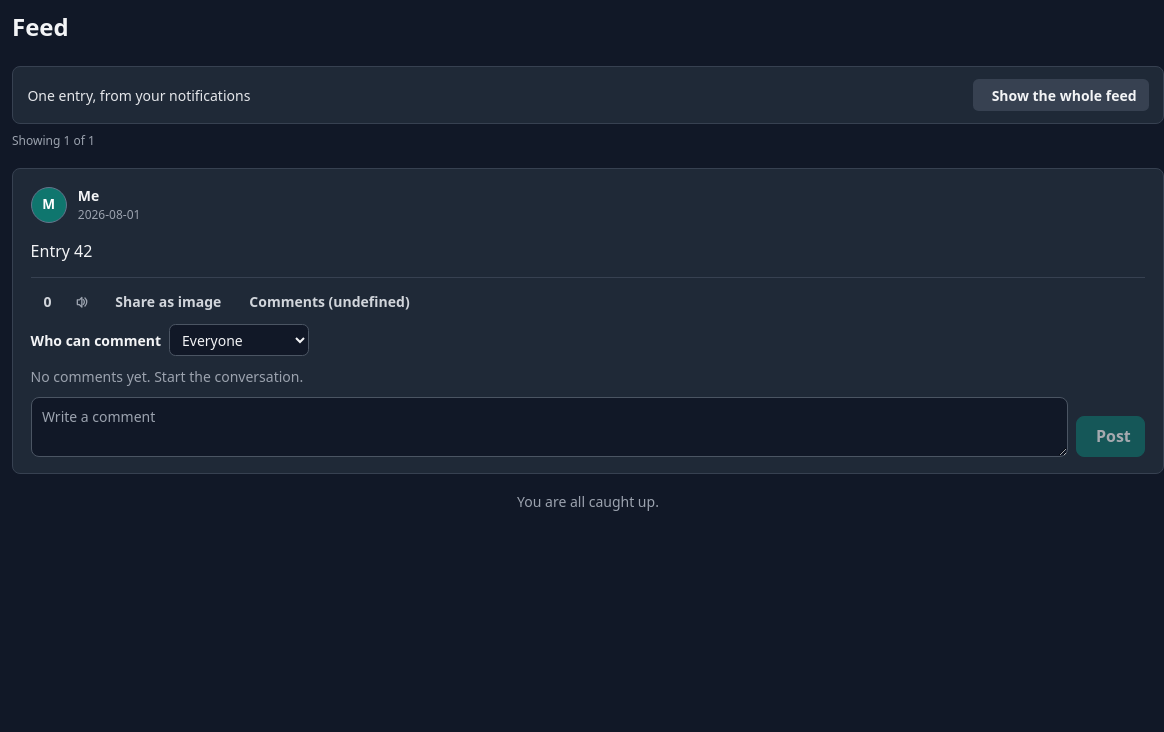
FeedPage topics and search › shows the one entry a notification leads to, its comments open, with a way to the whole feed
expect the text "Entry 42" is shown: met, box x1=31 y1=240 x2=92 y2=262
expect the element "One entry, from your notifications" is shown: met, box x1=12 y1=66 x2=1163 y2=124
Click the button "Show the whole feed" at [1061, 95], box x1=973 y1=79 x2=1149 y2=111
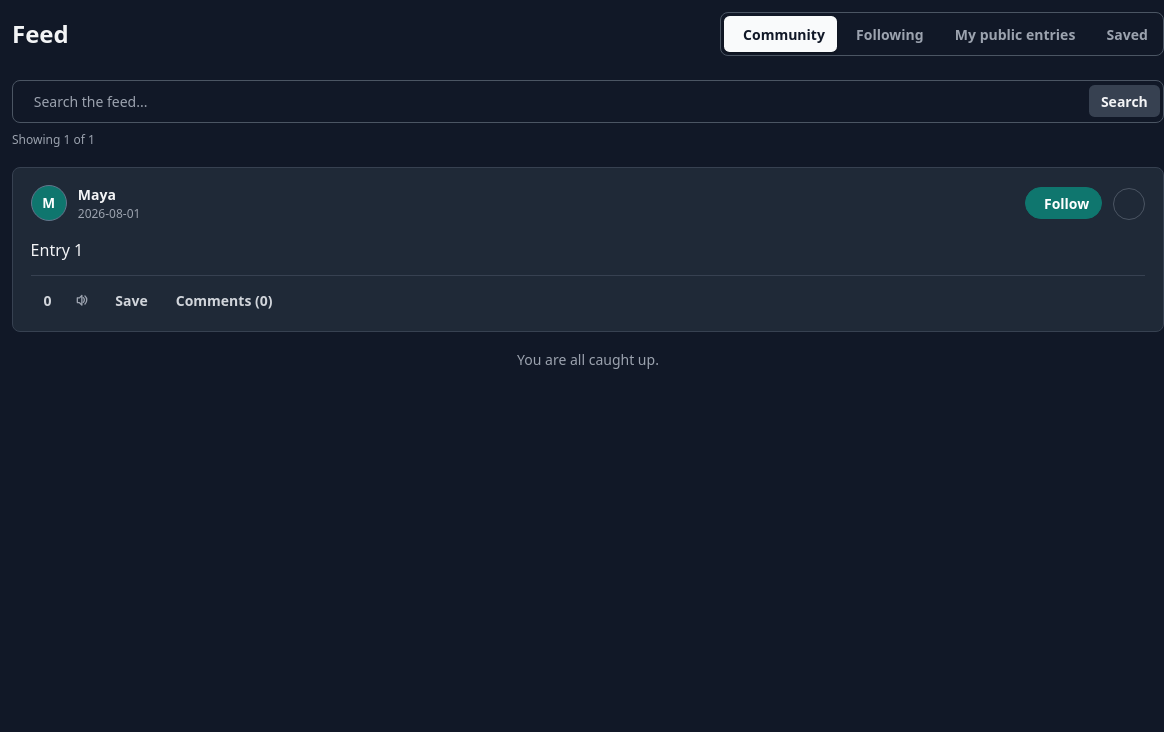
expect the form is shown: met, box x1=12 y1=80 x2=1163 y2=123
